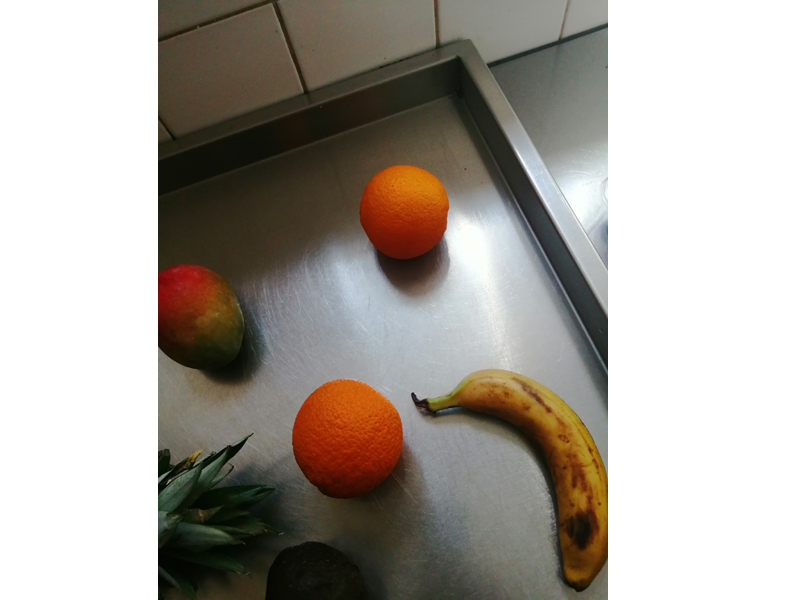orange: (284, 378, 413, 494), (358, 159, 453, 267)
